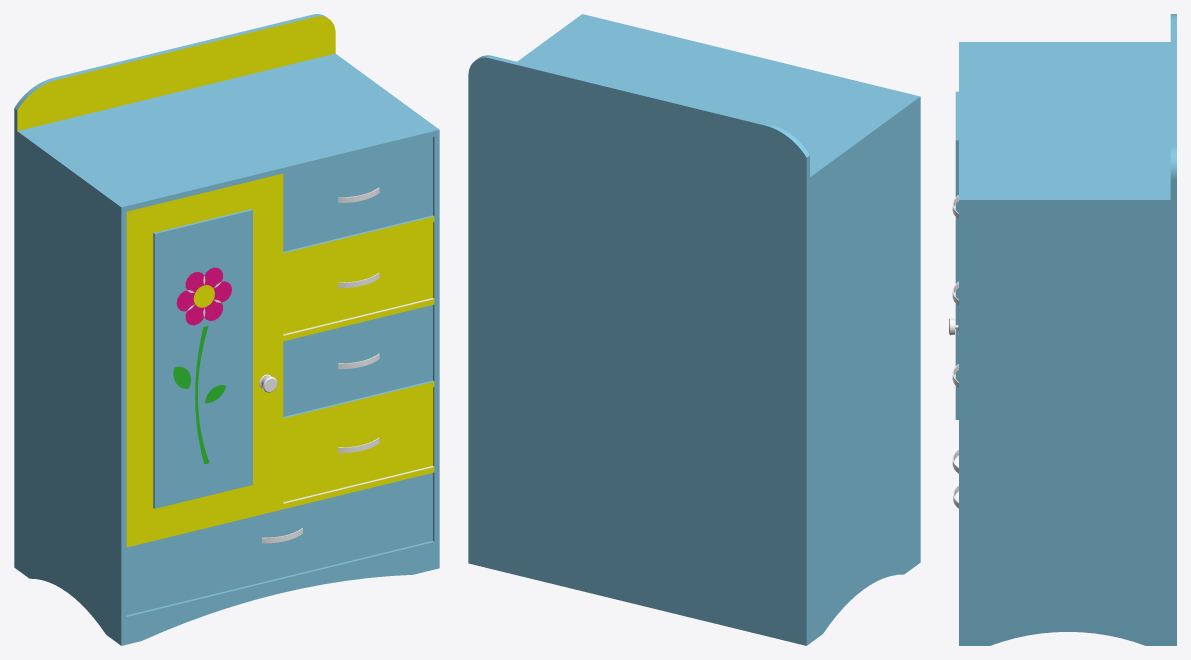
3 renders of one model, left to right at view 1: azimuth 30°, elevation 25°; view 2: azimuth 150°, elevation 25°; view 3: azimuth 270°, elevation 25°, orthographic. The views are drawn at different scales.
Parts seen in each view (by area): view 1: Layer0_001; view 2: Layer0_001; view 3: Layer0_001.
Boxes of the visible parts, x1,y1,x2,y2 form: Layer0_001: [14, 14, 439, 645]; Layer0_001: [468, 14, 920, 645]; Layer0_001: [955, 14, 1176, 645].
Size of the model in its own units: 47.24 by 68.11 by 28.81.
